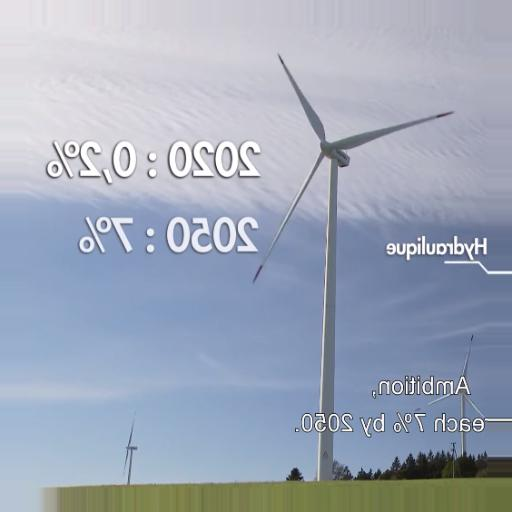wind turbine: (252, 52, 456, 476)
